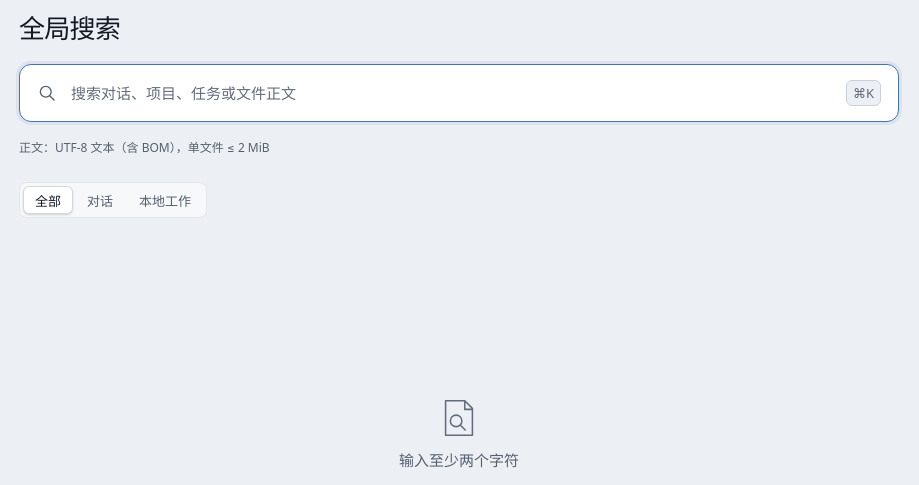
Test: 所有来源失败时不把未知结果显示为没有匹配结果
Type "许可证" into the search field at coordinates (452, 93), box [71, 83, 834, 103]
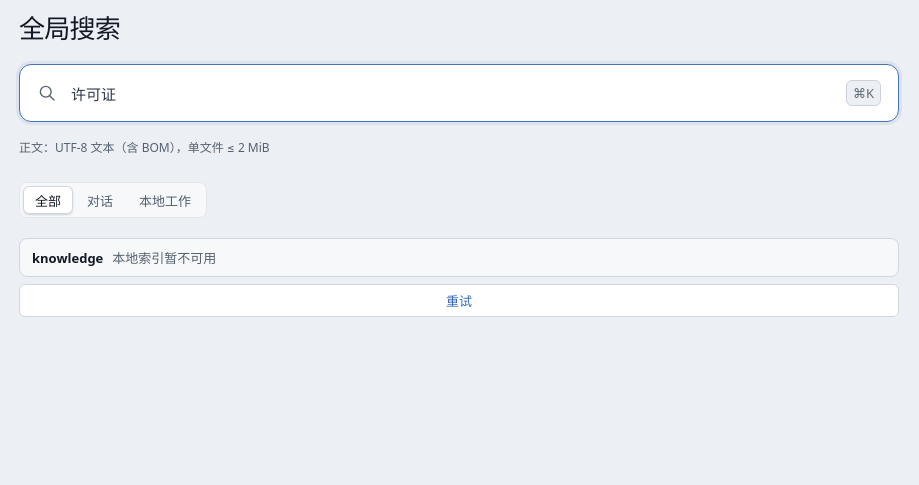
expect the text "本地索引暂不可用" is shown: met, box [112, 248, 216, 267]
expect the button "重试" is shown: met, box [19, 284, 899, 317]
